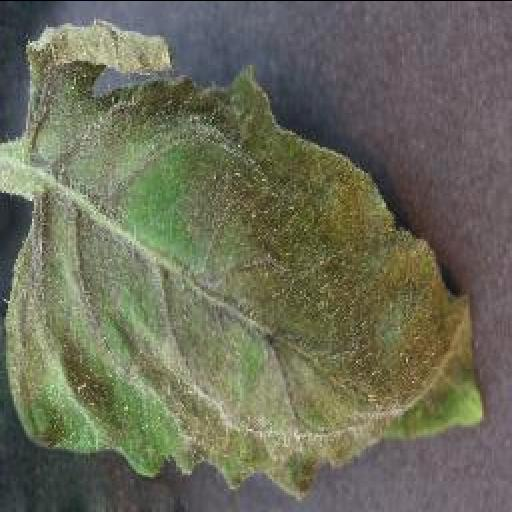disease_tomato: (0, 14, 484, 506)
